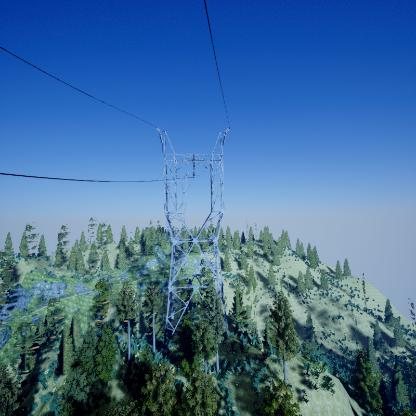tower: (153, 122, 234, 340)
